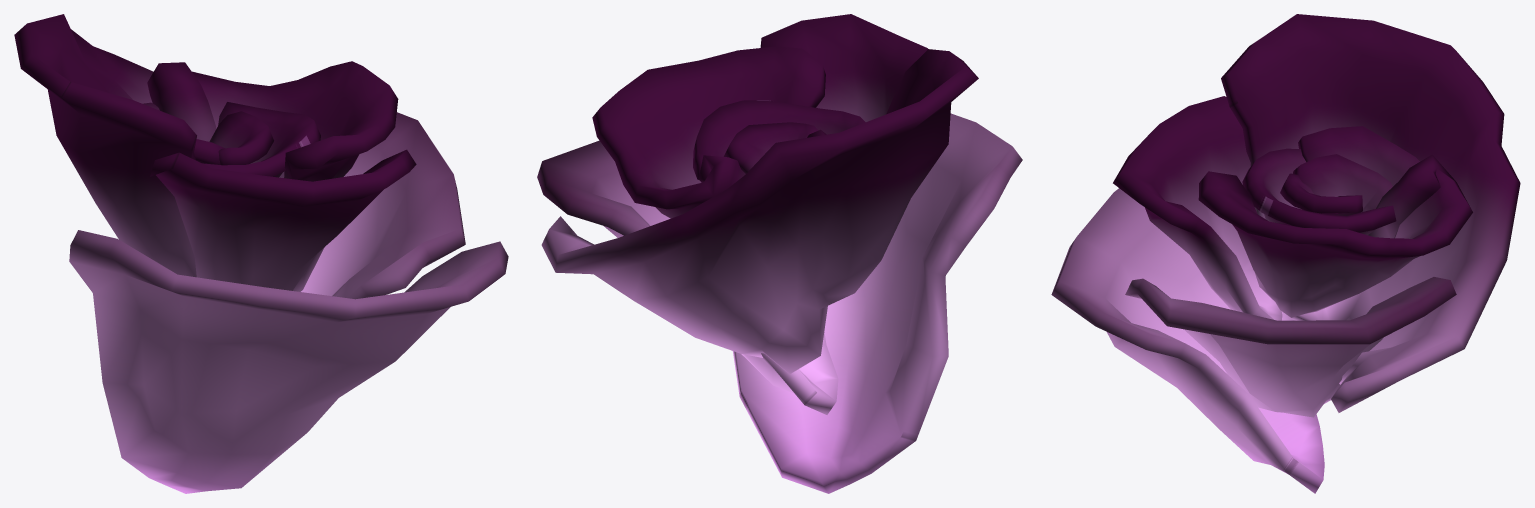
The model's file is SpiralCoral.fbx.
3 renders of one model, left to right at view 1: azimuth 30°, elevation 25°; view 2: azimuth 150°, elevation 25°; view 3: azimuth 270°, elevation 25°, orthographic. The views are drawn at different scales.
Parts seen in each view (by area): view 1: Column.002; view 2: Column.002; view 3: Column.002.
Boxes of the visible parts, <box> form: Column.002: <box>14,14,508,493</box>; Column.002: <box>537,14,1022,493</box>; Column.002: <box>1051,14,1520,493</box>.
Size of the model in its own units: 658 by 704 by 736.
Materials: 1 (1 with a texture image).
